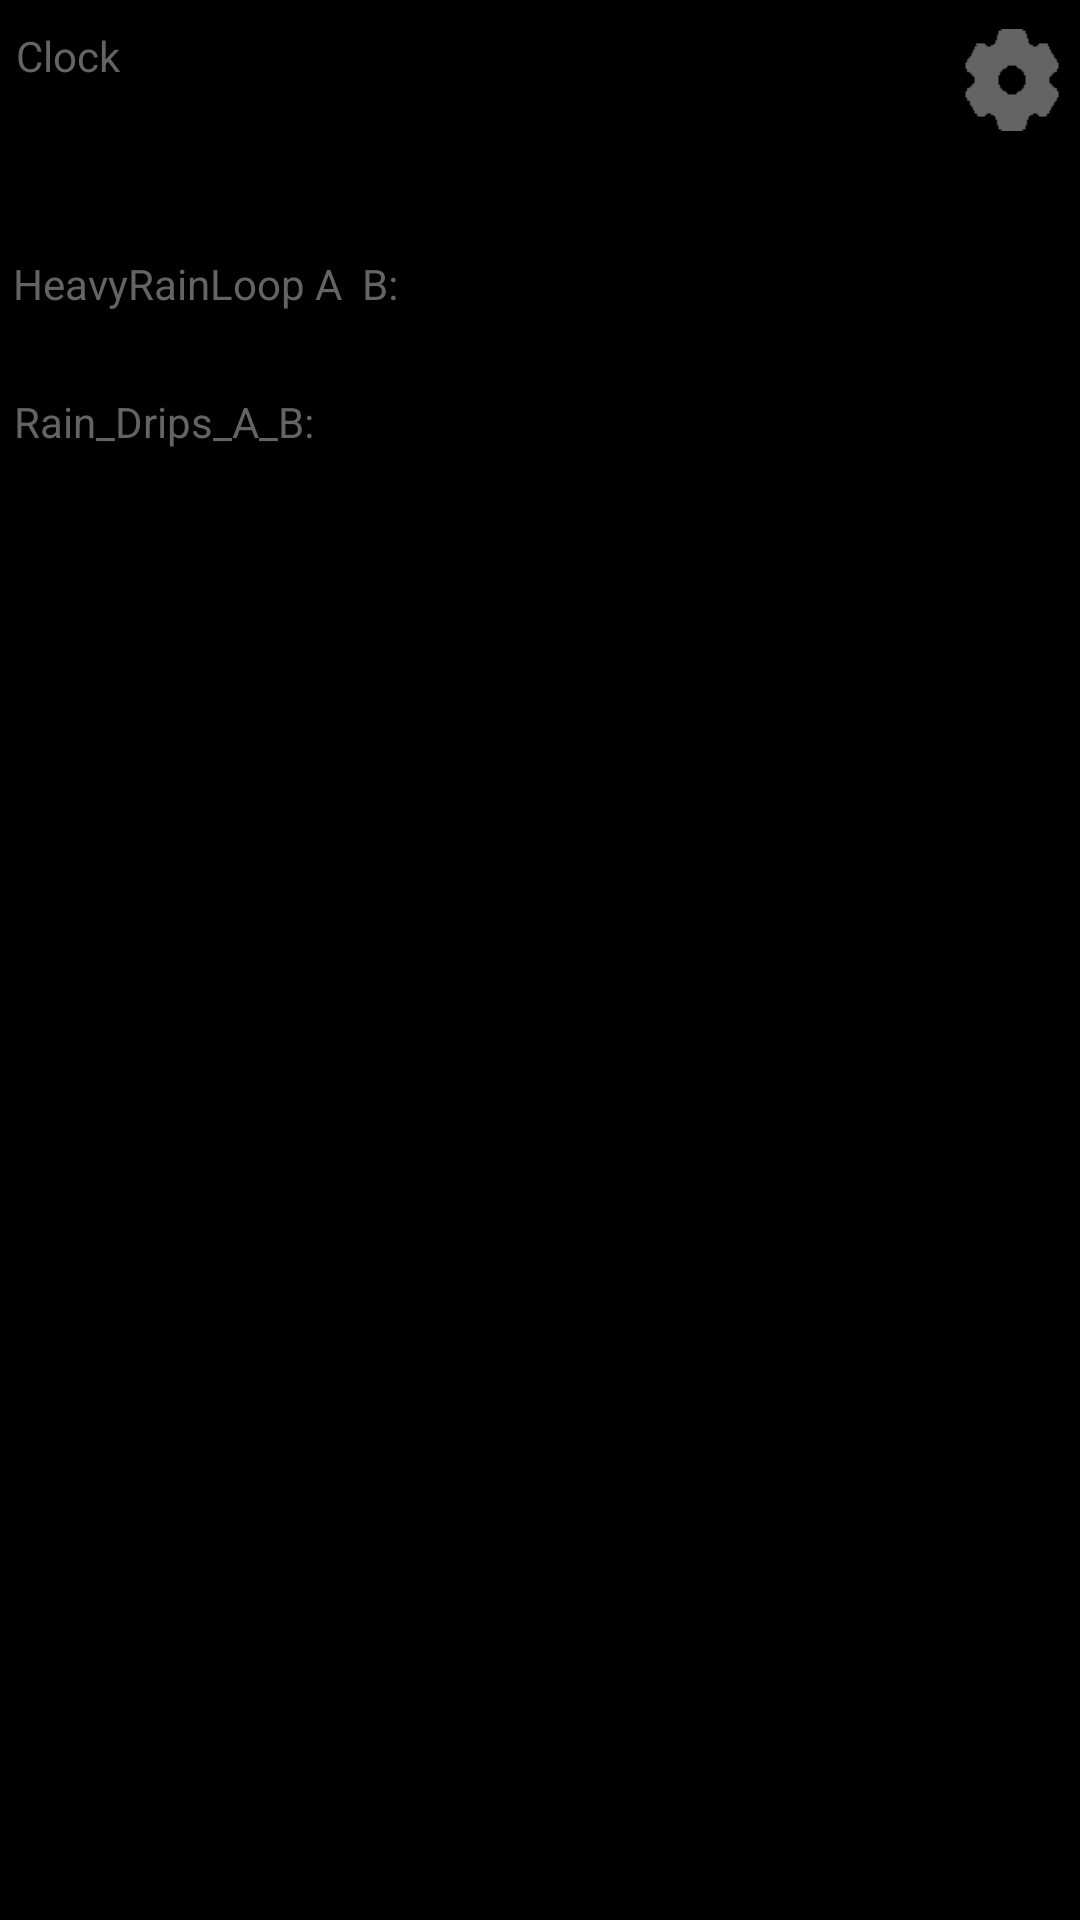

Icons on this 1080 × 1920 Android screen, each with the point to tap as [x,y]:
settings gear: [1012,80]
